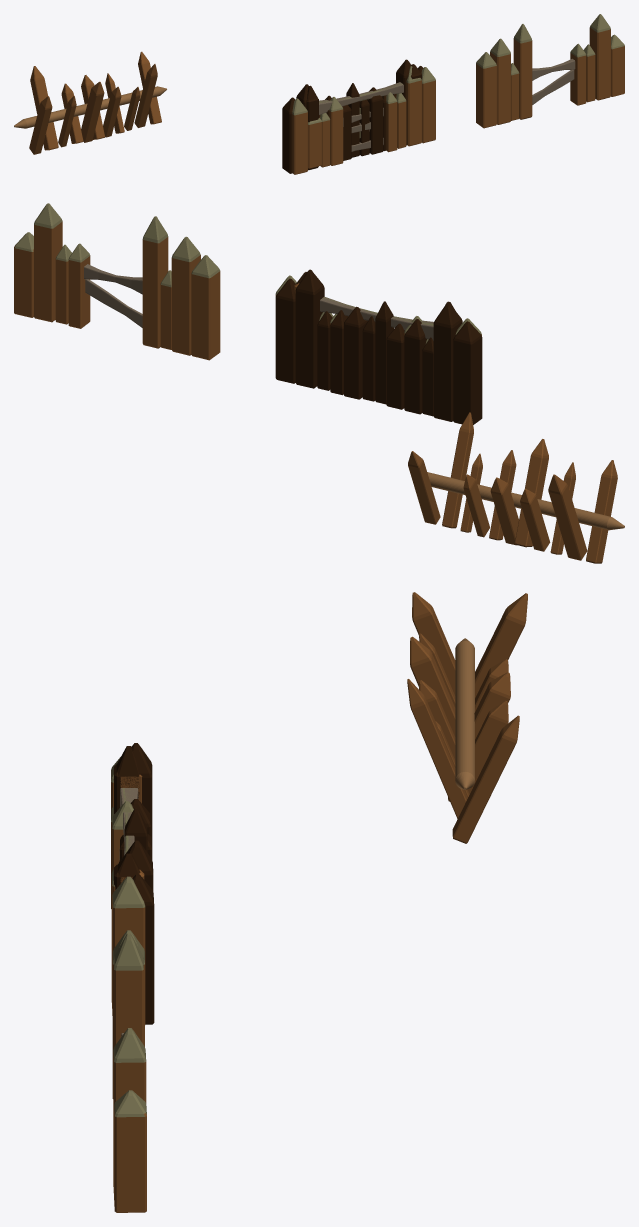
Rendered from fence5.fbx.
The picture shows the model from 3 angles, top to bottom: view 1: azimuth 30°, elevation 25°; view 2: azimuth 150°, elevation 25°; view 3: azimuth 270°, elevation 25°; orthographic projection. The views are drawn at different scales.
Visible parts, largest first — view 1: Cube.012, Cube.033, Cube.042, Cube.024, Cylinder, Cube.010, Cube.003, Cube.002, Cube.011; view 2: Cube.024, Cube.012, Cube.042, Cylinder, Cube.010, Cube.005; view 3: Cube.042, Cube.012, Cube.024, Cube.033, Cylinder, Cube.
Boxes of the visible parts, box(x1,y1,x2,y2) form: Cube.012: box(476, 14, 624, 128); Cube.033: box(292, 66, 435, 174); Cube.042: box(29, 51, 161, 154); Cube.024: box(282, 59, 423, 173); Cylinder: box(14, 86, 166, 128); Cube.010: box(532, 58, 575, 104); Cube.003: box(319, 83, 403, 132); Cube.002: box(307, 73, 421, 170); Cube.011: box(343, 108, 383, 151); Cube.024: box(275, 269, 482, 424); Cube.012: box(14, 203, 220, 360); Cube.042: box(408, 412, 617, 563); Cylinder: box(427, 472, 624, 530); Cube.010: box(84, 264, 142, 327); Cube.005: box(320, 298, 433, 340); Cube.042: box(407, 592, 527, 843); Cube.012: box(112, 930, 146, 1212); Cube.024: box(119, 743, 154, 1024); Cube.033: box(111, 757, 145, 1024); Cylinder: box(455, 638, 474, 789); Cube: box(116, 746, 140, 885).
Bounding box in the file's own units: 1798 × 305 × 620.
